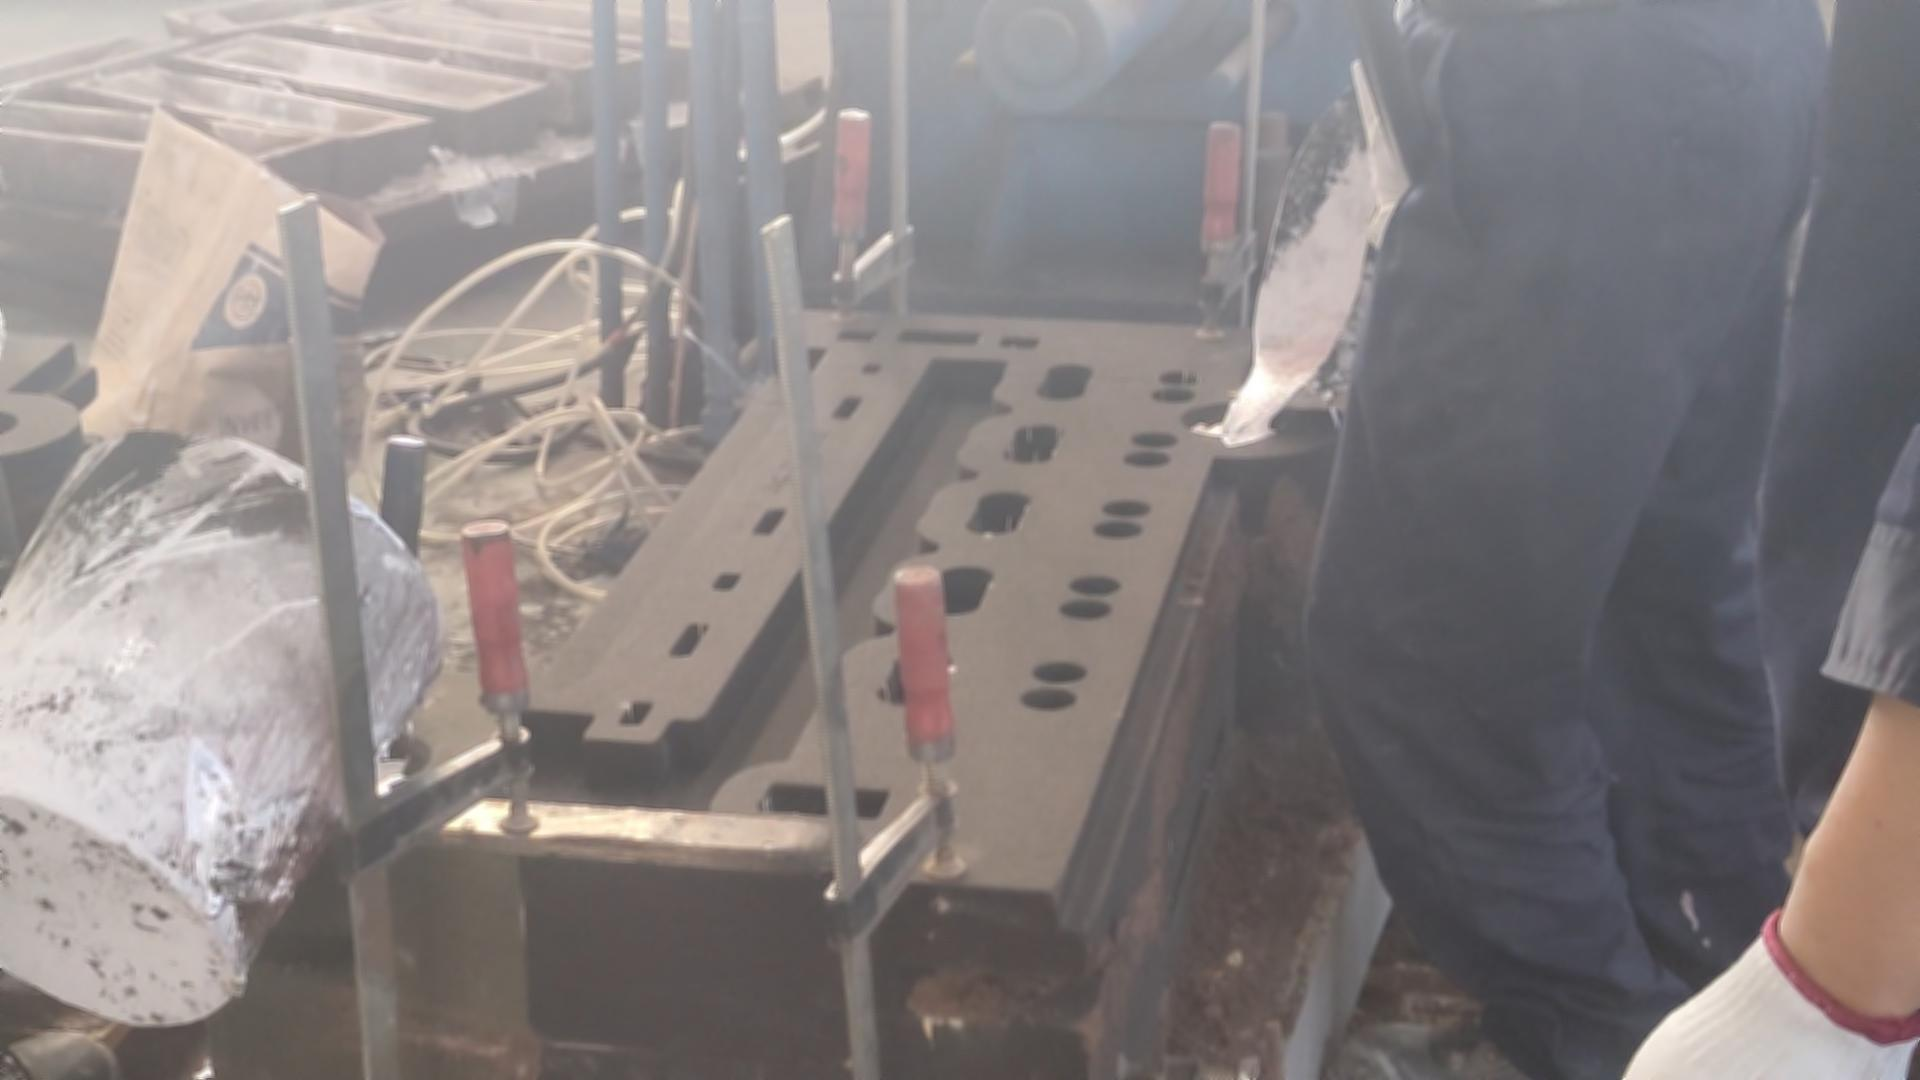pouring hole: (316, 729, 430, 799), (1178, 402, 1283, 440), (1, 411, 20, 438)
